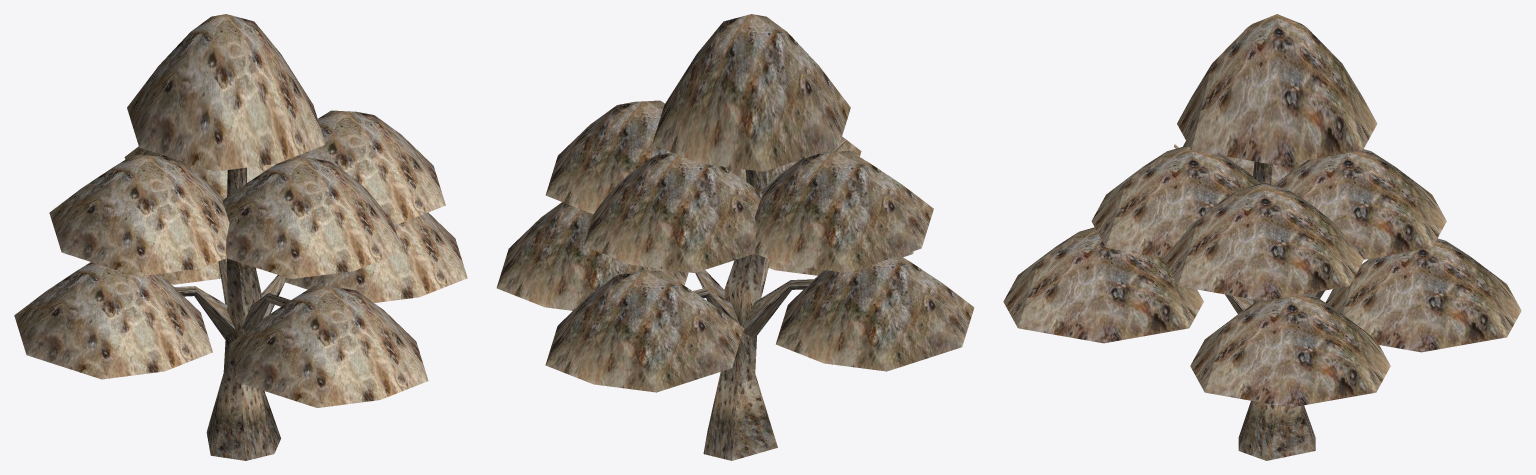
3 renders of one model, left to right at view 1: azimuth 30°, elevation 25°; view 2: azimuth 150°, elevation 25°; view 3: azimuth 270°, elevation 25°, orthographic. The views are drawn at different scales.
Parts seen in each view (by area): view 1: 2_Cluster3, 1_Trunk; view 2: 2_Cluster3, 1_Trunk; view 3: 2_Cluster3, 1_Trunk.
Boxes of the visible parts, box(x1,y1,x2,y2) form: 2_Cluster3: box(14, 14, 467, 407); 1_Trunk: box(174, 167, 290, 460); 2_Cluster3: box(496, 14, 974, 392); 1_Trunk: box(693, 139, 845, 460); 2_Cluster3: box(1003, 14, 1521, 407); 1_Trunk: box(1174, 144, 1325, 460).
Bounding box in the file's own units: 147 × 137 × 152.
1 material, 1 textured.
